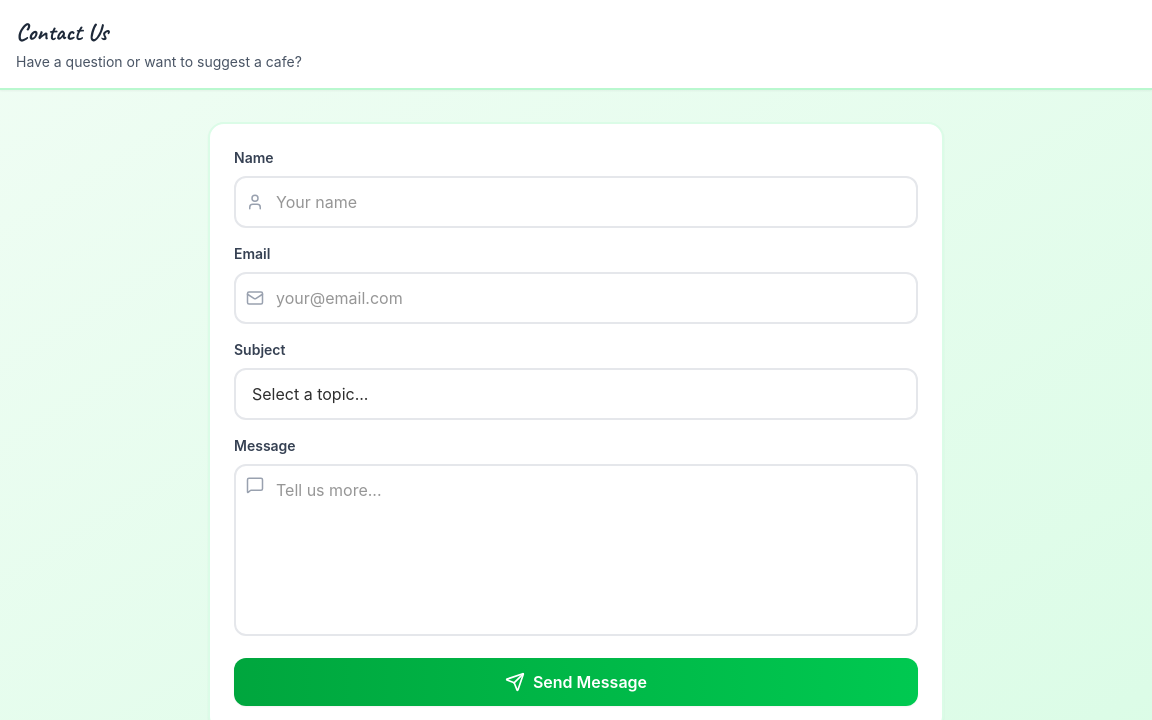
Test: ContactPage › should handle form submission
Type "John Doe" into the field with placeholder "Your name" at (576, 202), box x1=234 y1=176 x2=918 y2=228
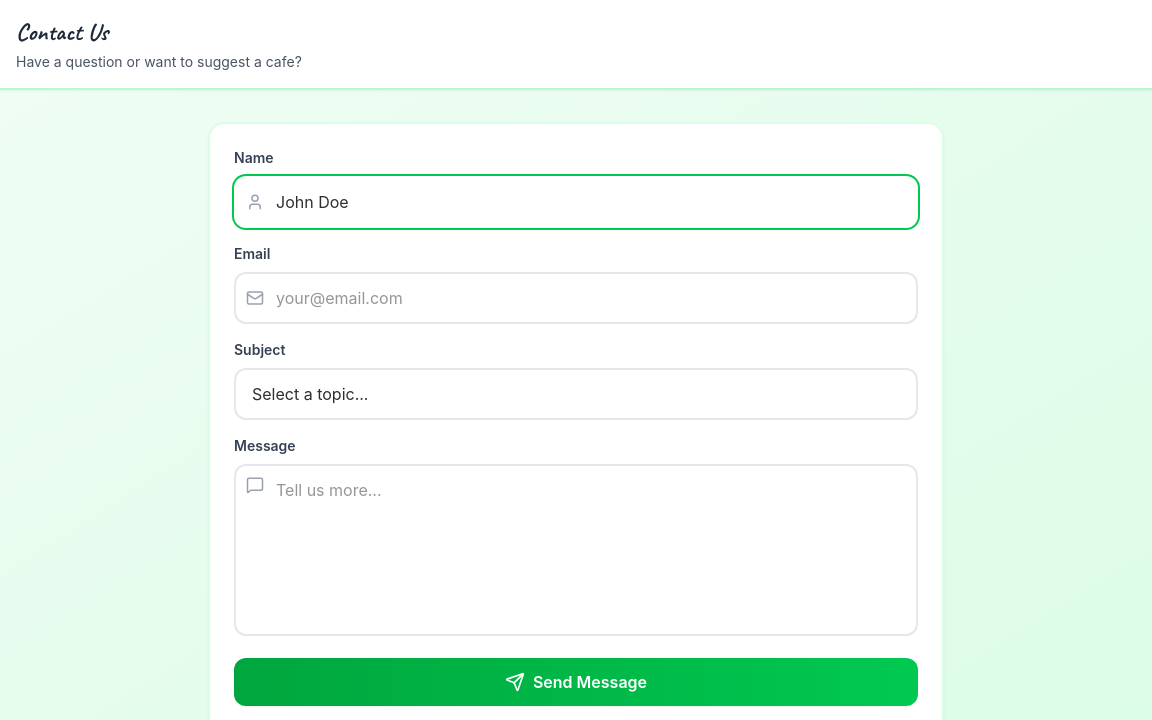
Type "john@example.com" into the field with placeholder "your@email.com" at (576, 298), box x1=234 y1=272 x2=918 y2=324
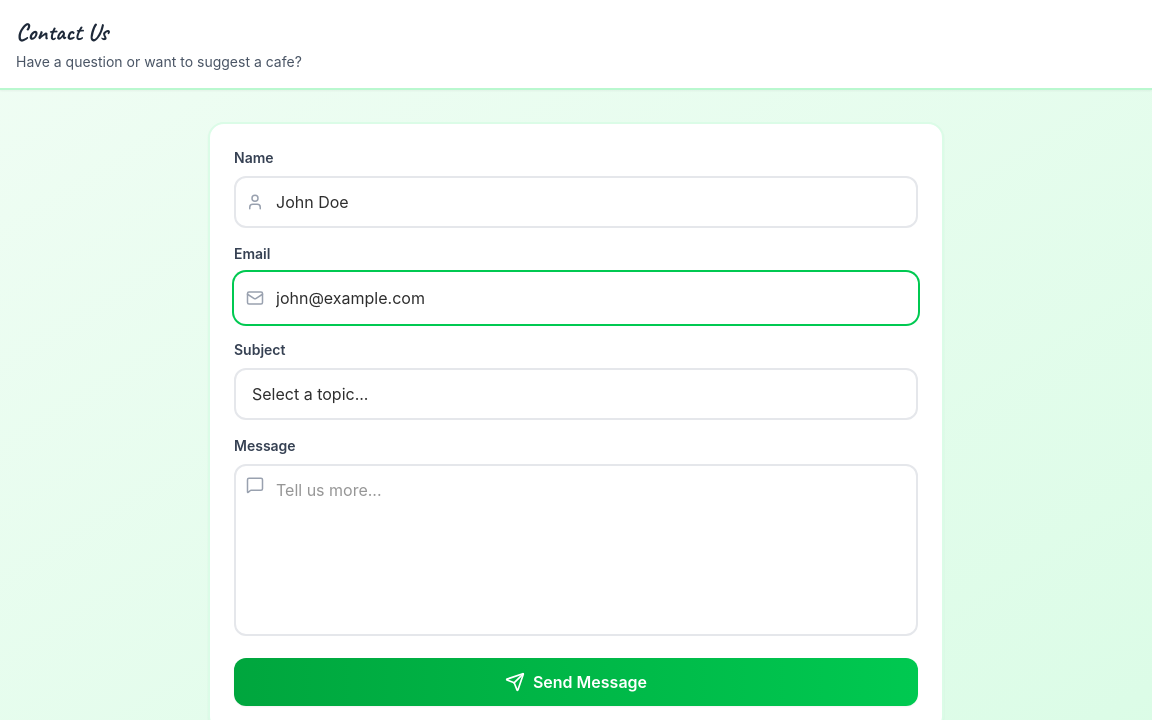
Select "General Inquiry" in the dropdown labelled "Subject" at (576, 394), box x1=234 y1=368 x2=918 y2=420
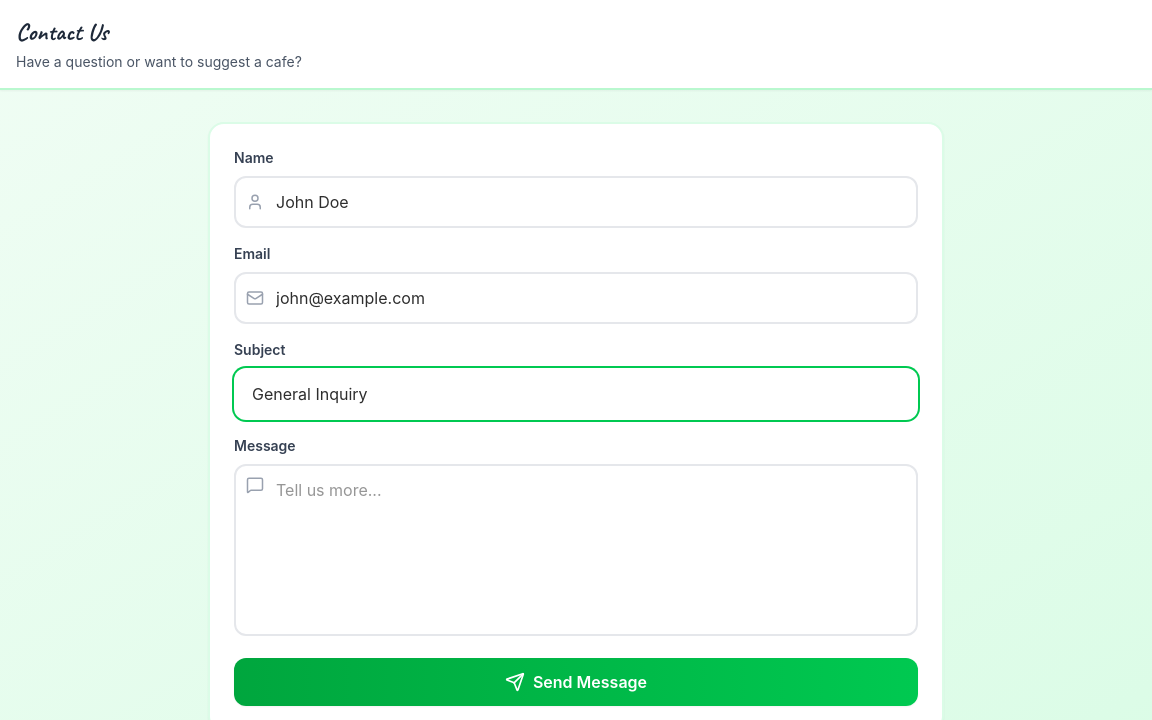
Type "Test message" into the text box with placeholder "Tell us more..." at (576, 550), box x1=234 y1=464 x2=918 y2=636
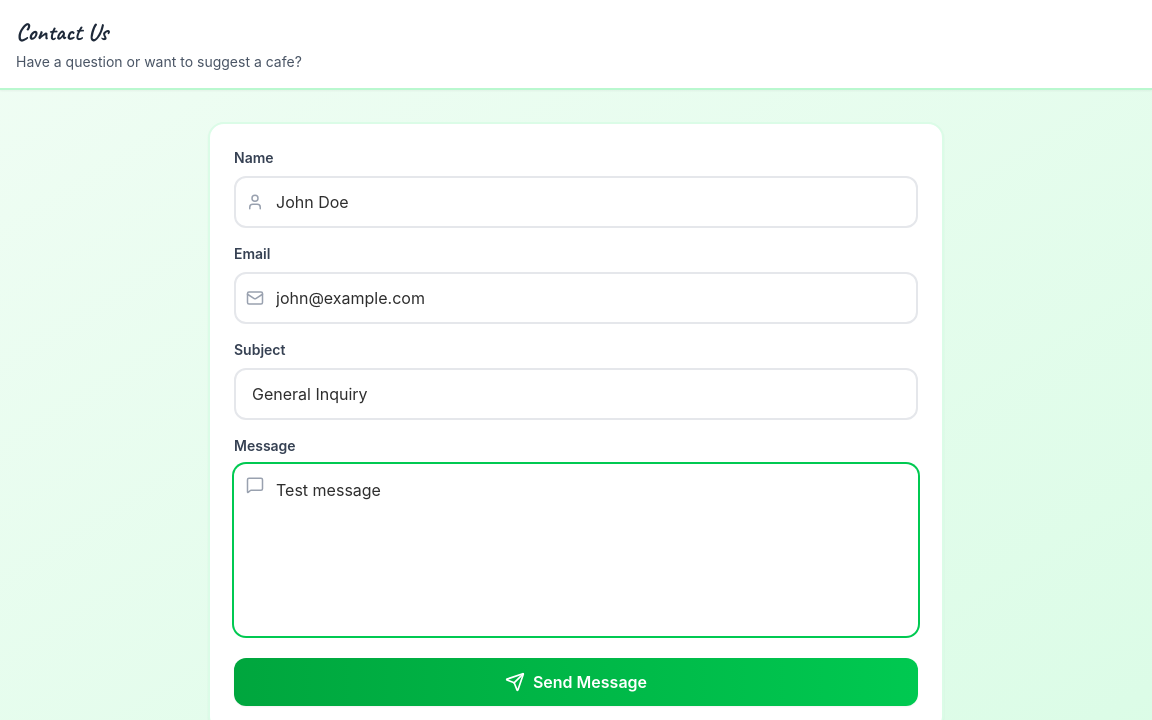
Click the button "Send Message" at (576, 682), box x1=234 y1=658 x2=918 y2=706
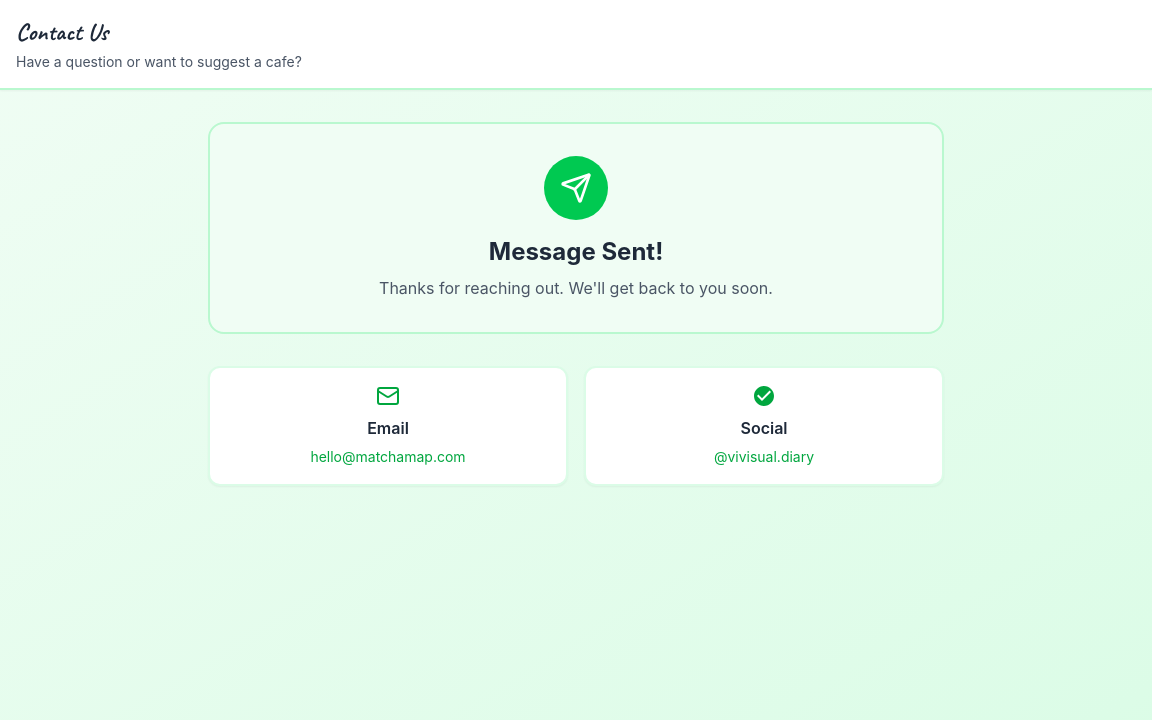
Expected: the heading "Message Sent!" is shown, x1=489 y1=237 x2=663 y2=266
